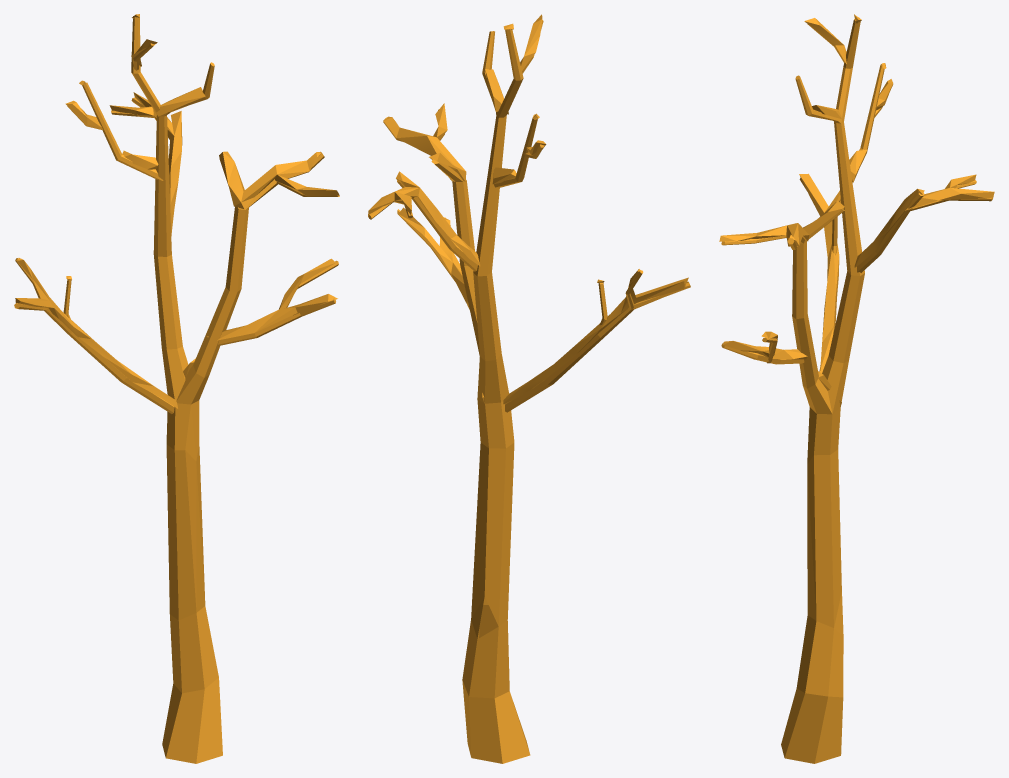
The model's file is SM_Tree_Oak_Sapling_A_Bare_Snow.fbx.
3 views of the same model, side by side, from view 1: azimuth 30°, elevation 25°; view 2: azimuth 150°, elevation 25°; view 3: azimuth 270°, elevation 25° (orthographic). The views are drawn at different scales.
Parts seen in each view (by area): view 1: tree-oak-sapling-a-bare-snow; view 2: tree-oak-sapling-a-bare-snow; view 3: tree-oak-sapling-a-bare-snow.
Boxes of the visible parts, box(x1,y1,x2,y2) form: tree-oak-sapling-a-bare-snow: box(14, 14, 339, 763); tree-oak-sapling-a-bare-snow: box(368, 14, 690, 763); tree-oak-sapling-a-bare-snow: box(719, 14, 994, 763).
Bounding box in the file's own units: 0.9412 × 2.16 × 0.7488.
